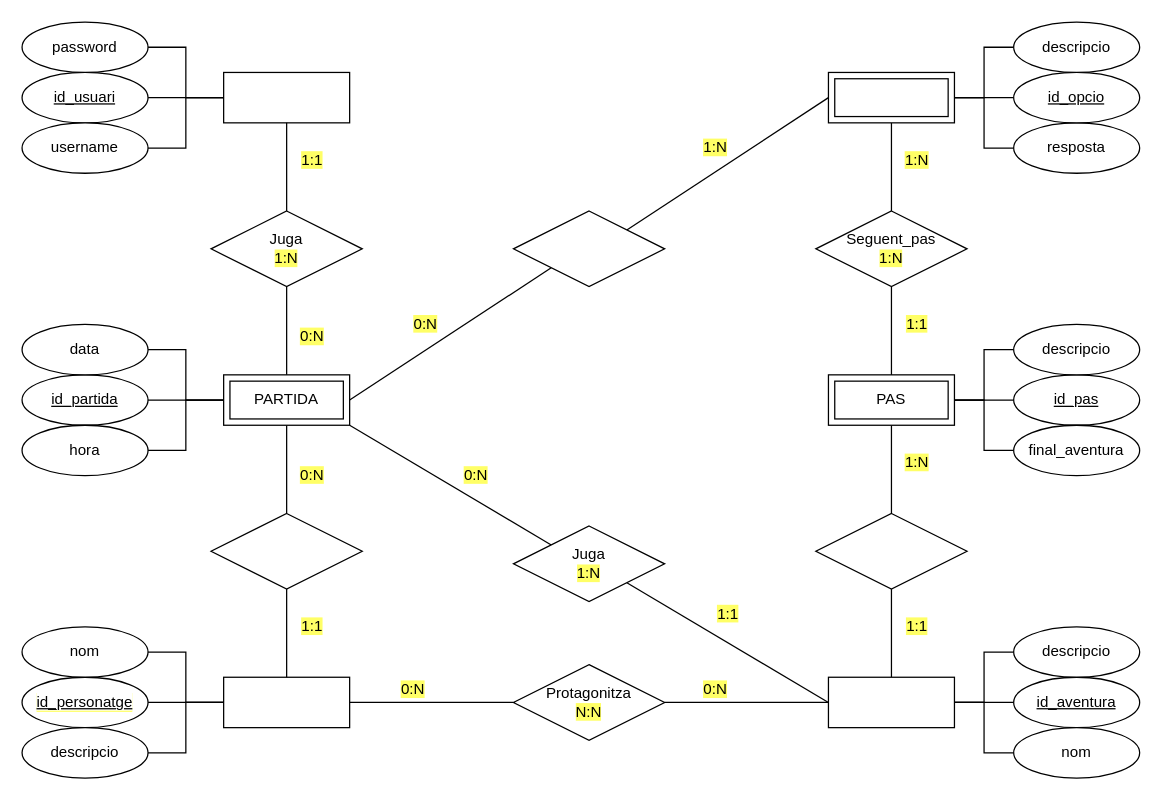
The diagram is 1162 pixels wide and 800 high, and some of its shapes have lost their labels. The centre of each missing label's shape, as x and y in pixels:
"AVENTURA" goes at pixel 890 702.
"Eleccio N:N" goes at pixel 588 248.
"Formada_per 1:N" goes at pixel 891 550.
"OPCIO" goes at pixel 890 97.
"PERSONATGE" goes at pixel 286 702.
"USUARI" goes at pixel 286 97.
"Utilitza 1:N" goes at pixel 286 550.
